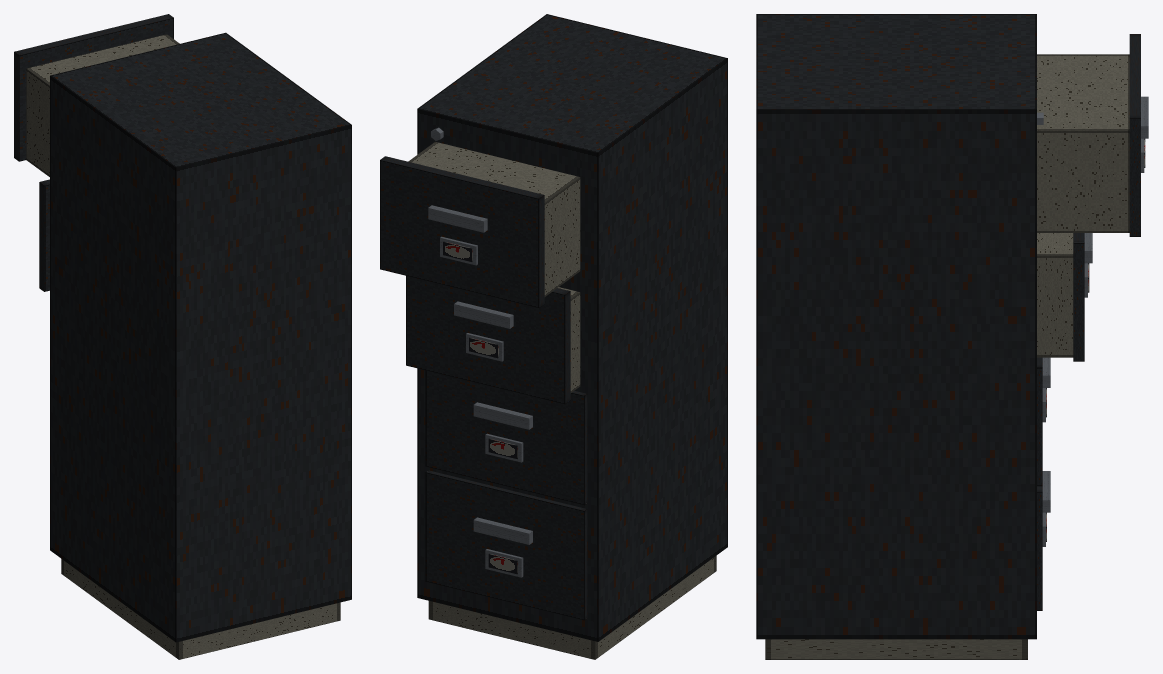
Rendered from file_cabinet_habitation_worn.glb.
3 views of the same model, side by side, from view 1: azimuth 30°, elevation 25°; view 2: azimuth 150°, elevation 25°; view 3: azimuth 270°, elevation 25° (orthographic). The views are drawn at different scales.
Parts seen in each view (by area): view 1: file_cabinet_habitation_worn; view 2: file_cabinet_habitation_worn; view 3: file_cabinet_habitation_worn.
Boxes of the visible parts, x1,y1,x2,y2 form: file_cabinet_habitation_worn: (14,14,351,659); file_cabinet_habitation_worn: (380,14,727,659); file_cabinet_habitation_worn: (756,14,1148,659).
Size of the model in its own units: 0.5 by 1.35 by 0.867.
Materials: 4 (4 with a texture image).
